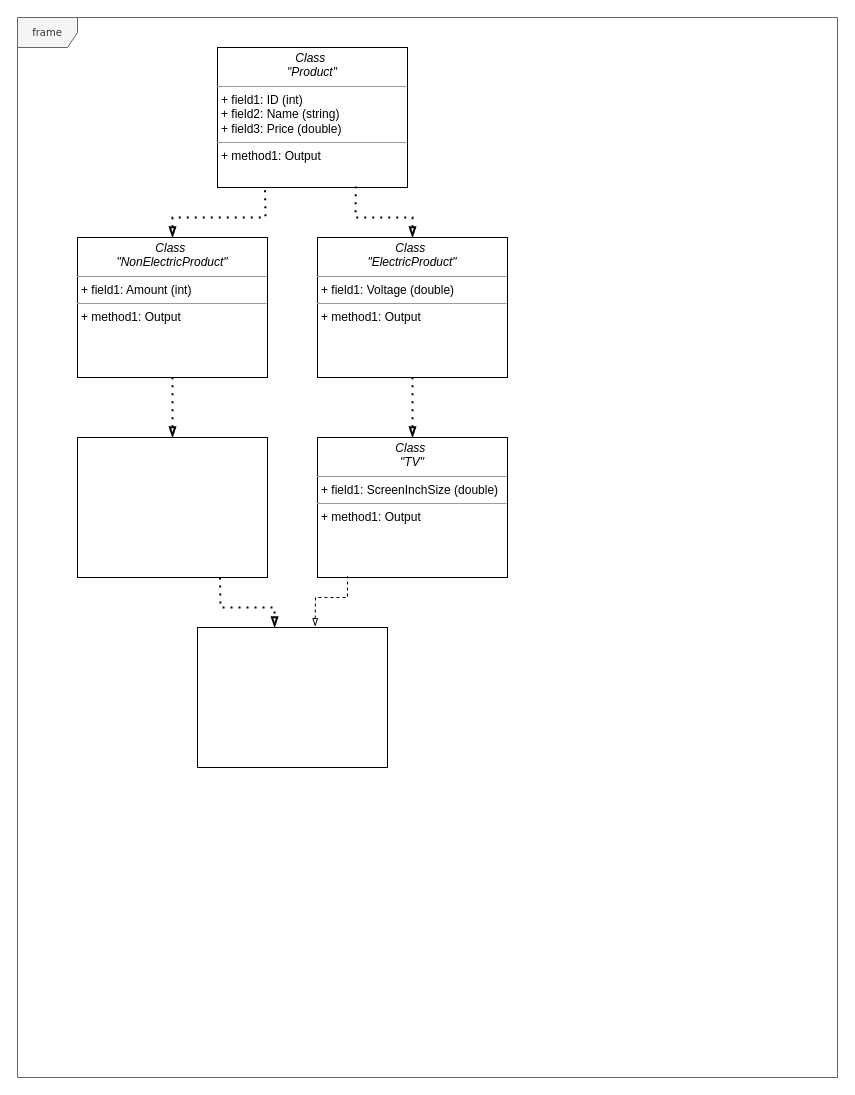
This 855x1095 diagram has some shape labels left out. The shapes that lost their labels are listed below. From the top down, each one's box as (x1, y1, x2, y2) in pixels, then its label:
(76, 436, 268, 578): Class "Table" + field1: Weight (double) + method1: Output
(196, 626, 388, 768): Class "RoomSetup" + field1: Rating (double) + method1: Output
